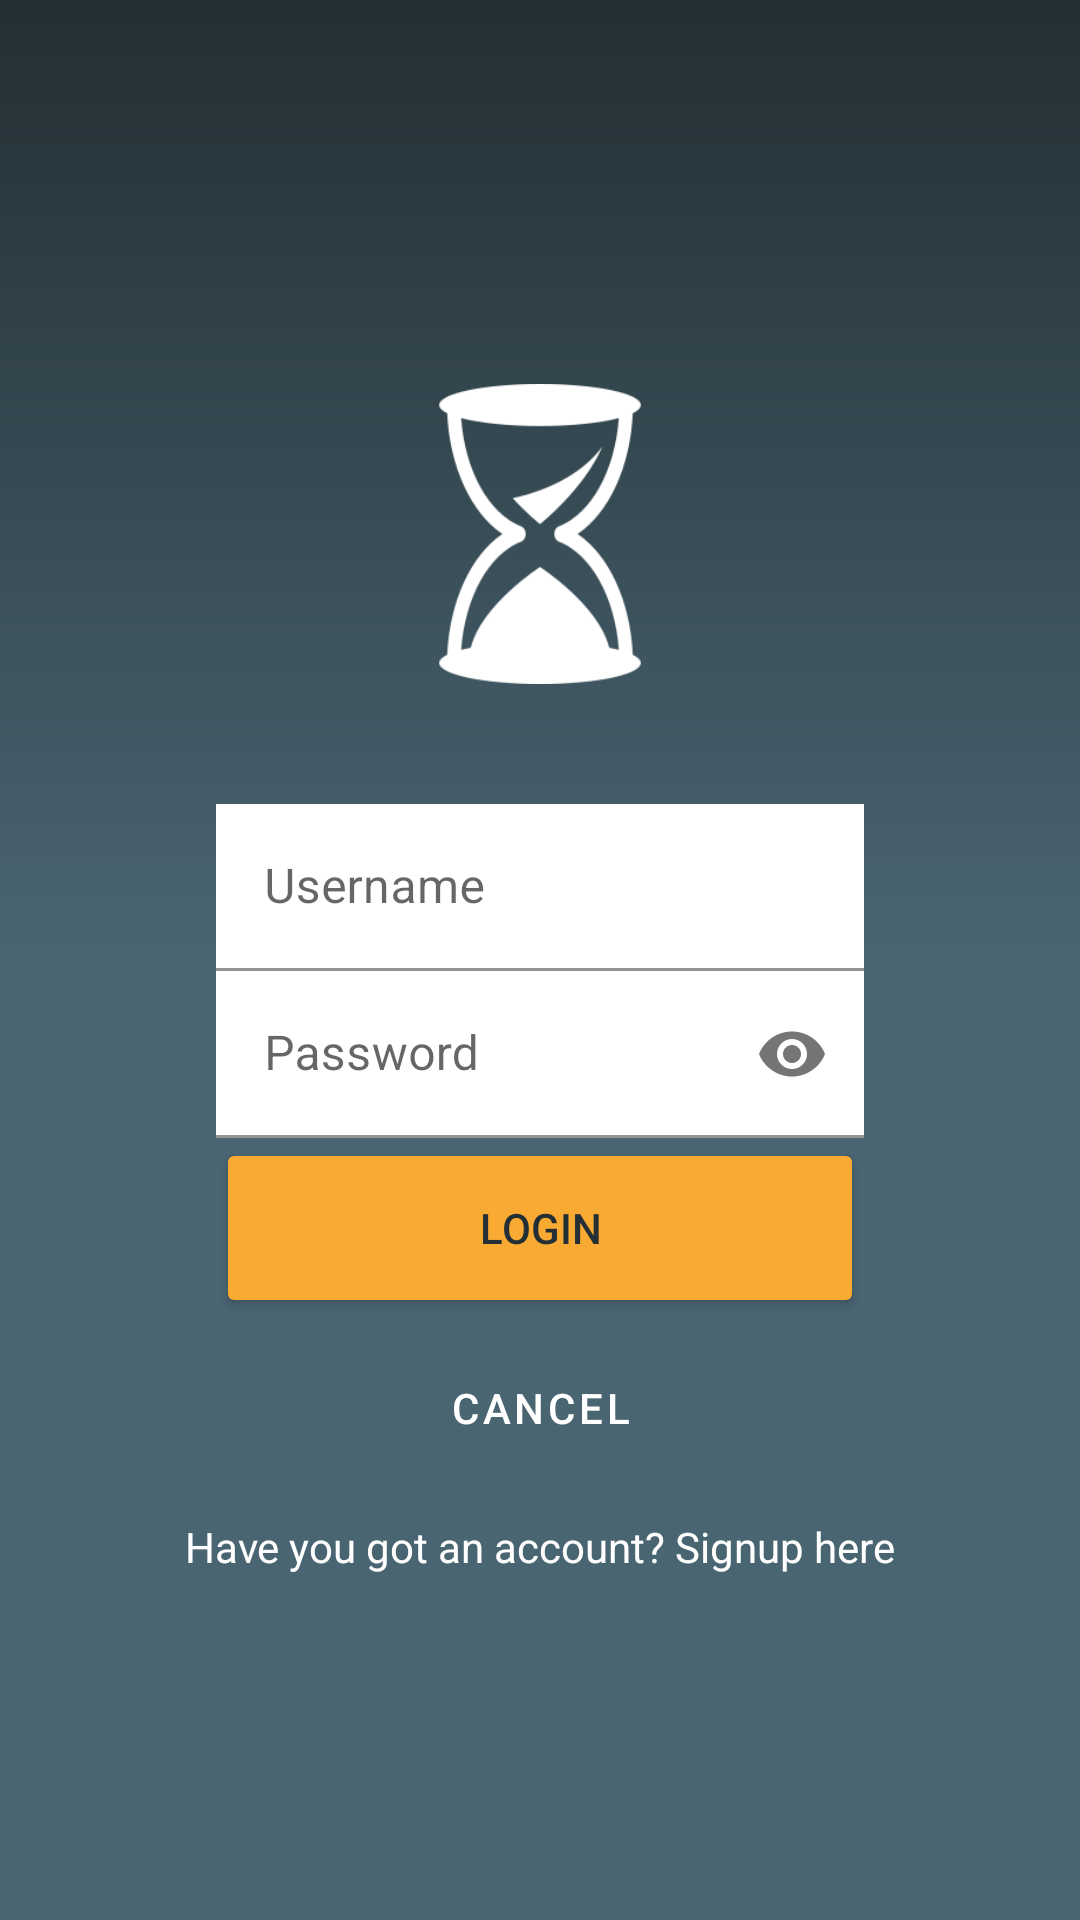

Locate icon controls on the screen. Image size 1080px×1920px, boxes as [x1, y1, x2, y2].
reloj: [439, 384, 641, 684]
